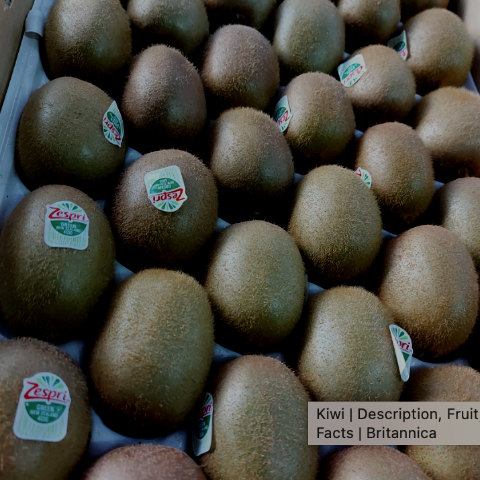kiwi: (75, 249, 226, 440), (287, 272, 416, 426), (4, 177, 124, 337), (179, 342, 318, 479), (368, 215, 480, 379), (280, 153, 388, 293), (110, 34, 213, 170), (118, 144, 218, 275), (342, 115, 436, 235), (267, 68, 365, 174), (207, 95, 299, 203)
